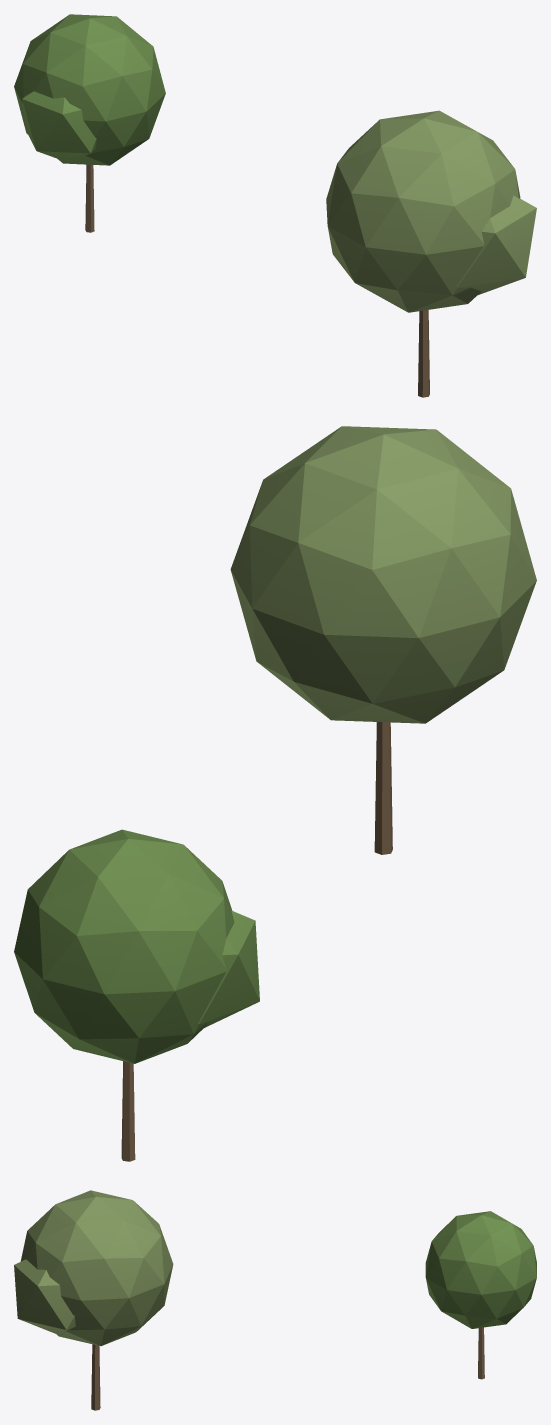
The picture shows the model from 3 angles, top to bottom: view 1: azimuth 30°, elevation 25°; view 2: azimuth 150°, elevation 25°; view 3: azimuth 270°, elevation 25°; orthographic projection. The views are drawn at different scales.
Visible parts, largest first — view 1: tree_8474, tree_8484; view 2: tree_8474, tree_8484; view 3: tree_8474, tree_8484.
Boxes of the visible parts, x1,y1,x2,y2 form: tree_8474: (326,110,536,397); tree_8484: (14,14,165,232); tree_8474: (230,426,536,854); tree_8484: (14,829,259,1161); tree_8474: (14,1190,173,1410); tree_8484: (425,1211,536,1379).
Size of the model in its own units: 10.86 by 11.99 by 26.83.
